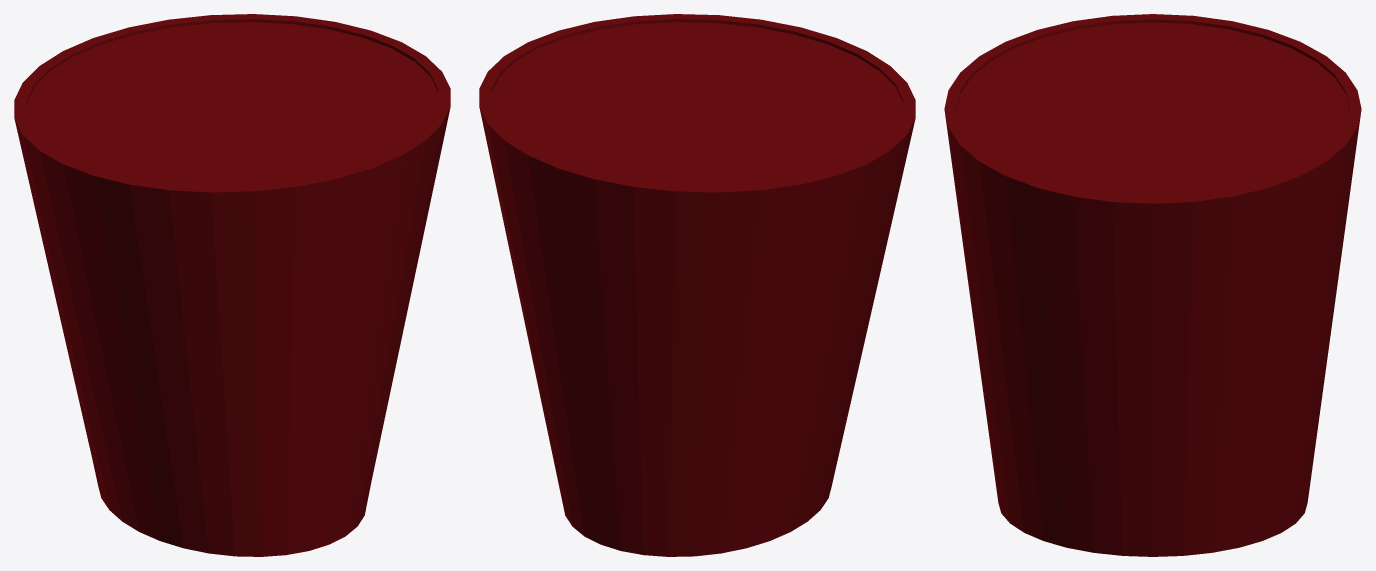
The model's file is Tapon para tubo de ensayo.fbx.
3 renders of one model, left to right at view 1: azimuth 30°, elevation 25°; view 2: azimuth 150°, elevation 25°; view 3: azimuth 270°, elevation 25°, orthographic.
Visible parts, largest first — view 1: Tapon para tubo de ensayo; view 2: Tapon para tubo de ensayo; view 3: Tapon para tubo de ensayo.
Part boxes in pixels (left/top/right/bottom): Tapon para tubo de ensayo: left=14, top=14, right=450, bottom=556; Tapon para tubo de ensayo: left=479, top=14, right=915, bottom=556; Tapon para tubo de ensayo: left=944, top=14, right=1361, bottom=556.
Size of the model in its own units: 207 by 200 by 192.
